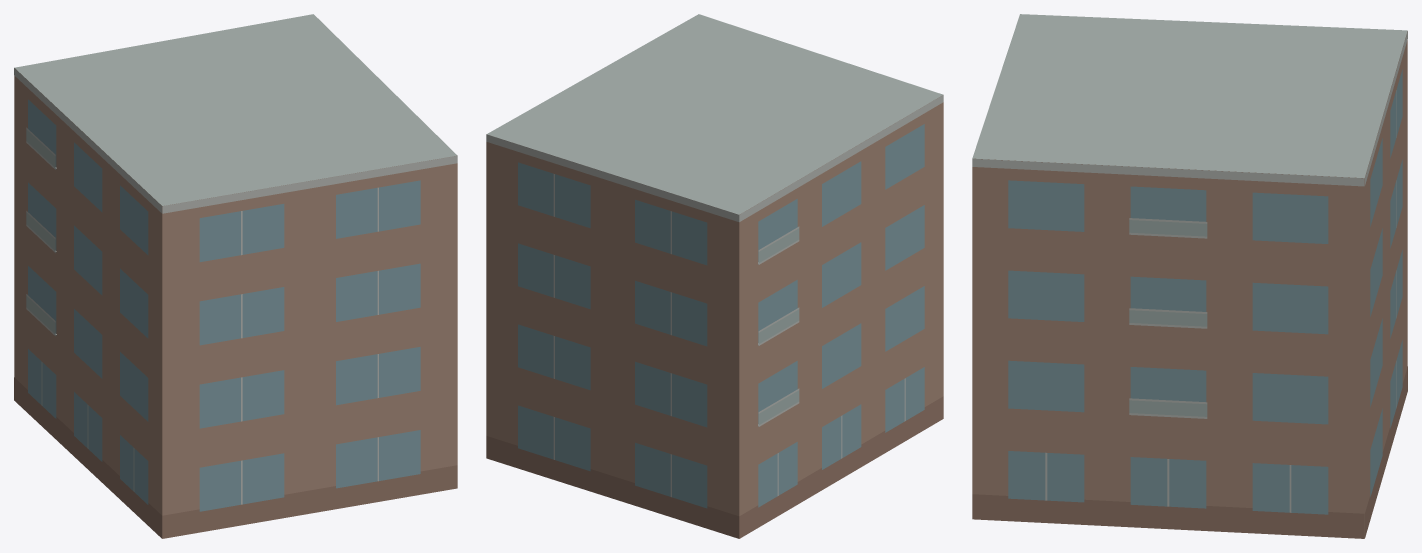
The model's file is survey-upis-32814243.glb.
3 views of the same model, side by side, from view 1: azimuth 30°, elevation 25°; view 2: azimuth 150°, elevation 25°; view 3: azimuth 270°, elevation 25° (orthographic). The views are drawn at different scales.
Parts seen in each view (by area): view 1: survey-upis-32814243.tmp; view 2: survey-upis-32814243.tmp; view 3: survey-upis-32814243.tmp.
Boxes of the visible parts, left/top/right/bottom form: survey-upis-32814243.tmp: left=14, top=14, right=457, bottom=538; survey-upis-32814243.tmp: left=486, top=14, right=943, bottom=538; survey-upis-32814243.tmp: left=972, top=14, right=1407, bottom=538.
Bounding box in the file's own units: 10.36 × 10.6 × 11.61.
